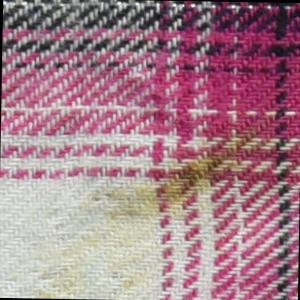Oil Stain: (31, 123, 288, 300)
